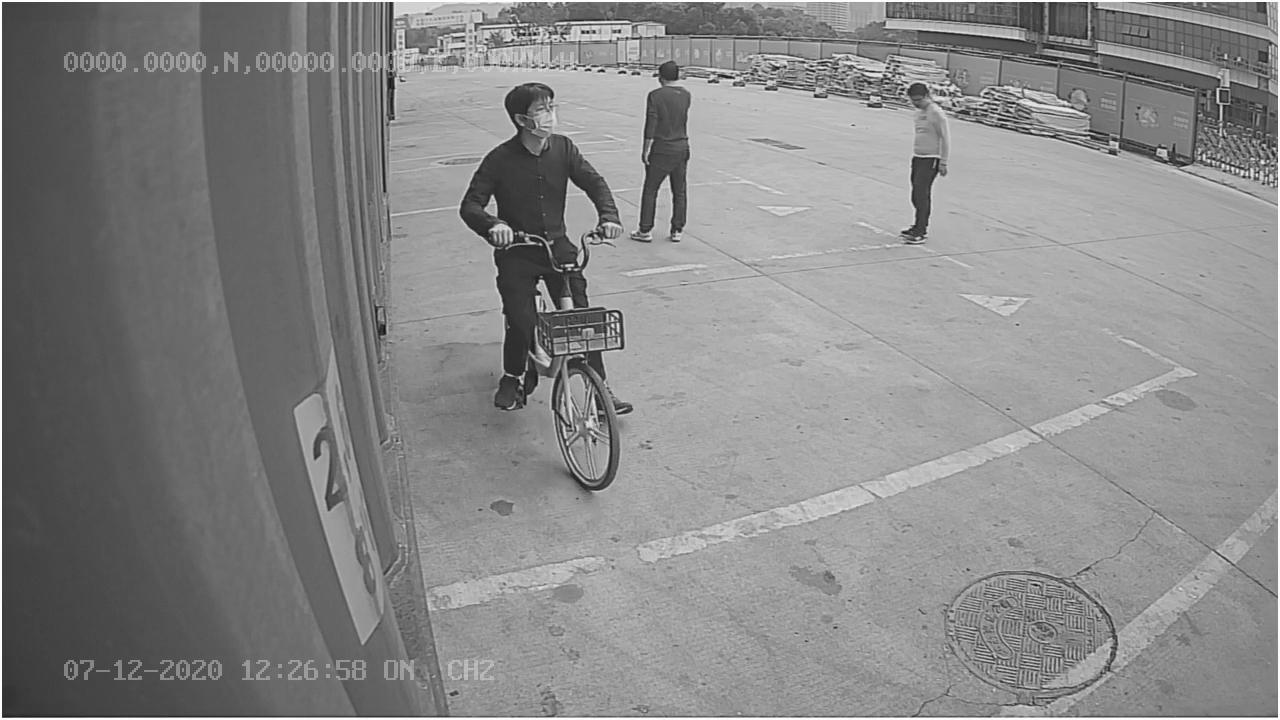person: (623, 56, 698, 249)
